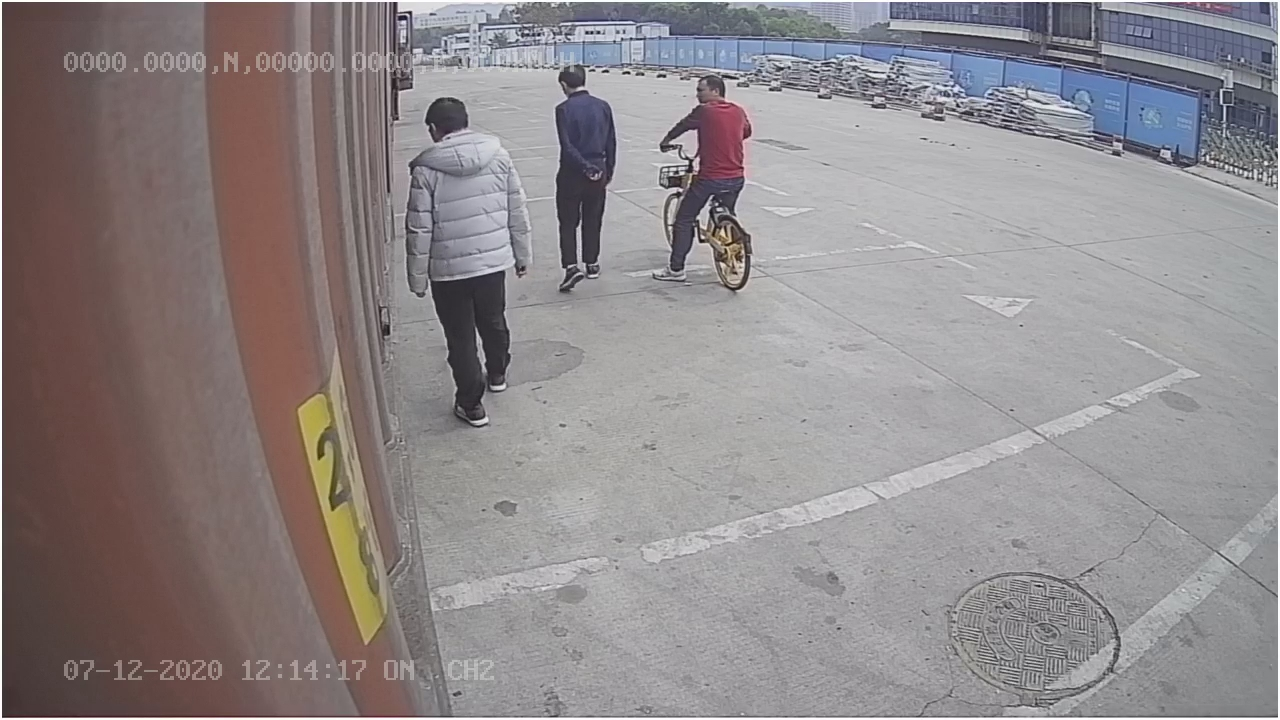person: (548, 55, 623, 295)
